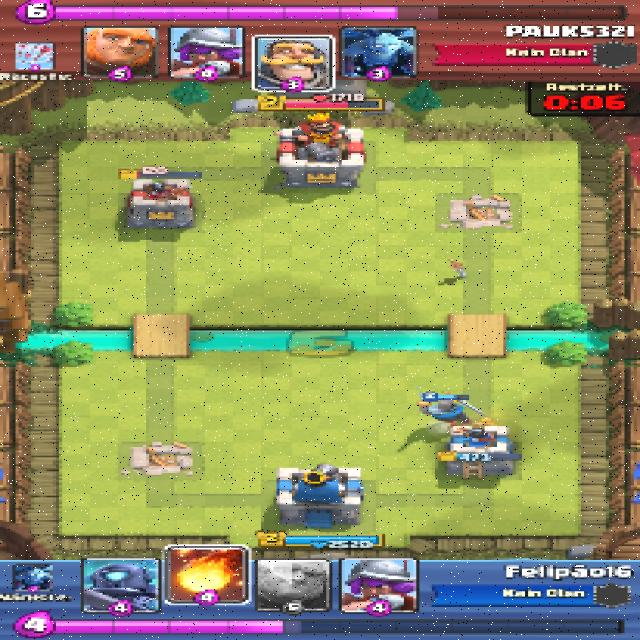Player-Knight: (416, 396, 473, 423)
